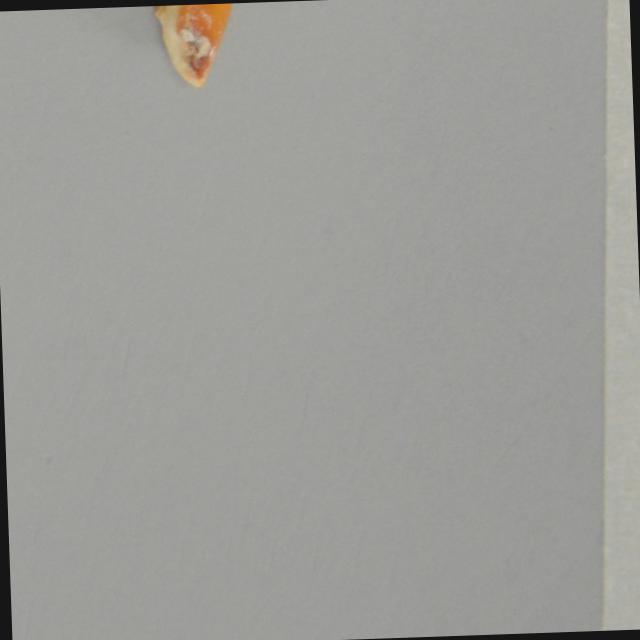dañado: (147, 3, 244, 93)
